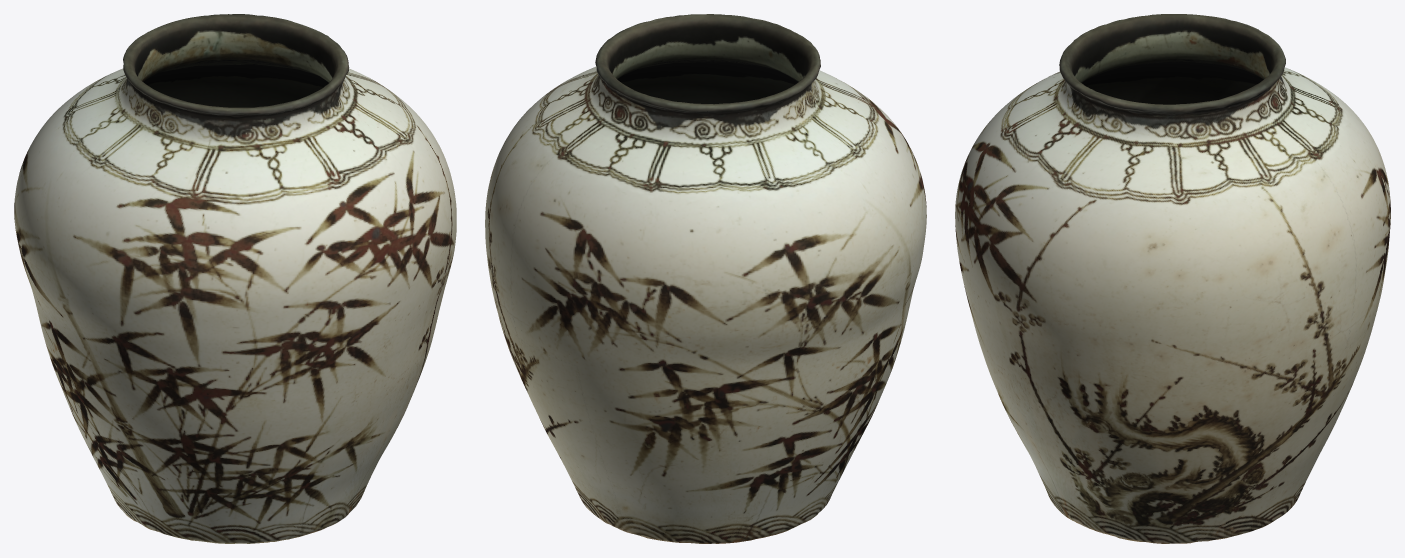
File: SM_037_Pot.FBX
3 renders of one model, left to right at view 1: azimuth 30°, elevation 25°; view 2: azimuth 150°, elevation 25°; view 3: azimuth 270°, elevation 25°, orthographic.
Visible parts, largest first — view 1: SM_037_Pot; view 2: SM_037_Pot; view 3: SM_037_Pot.
Part boxes in pixels (left/top/right/bottom): SM_037_Pot: left=14, top=14, right=456, bottom=543; SM_037_Pot: left=485, top=14, right=926, bottom=543; SM_037_Pot: left=955, top=14, right=1390, bottom=543.
Bounding box in the file's own units: 37.93 × 41.12 × 37.41.
